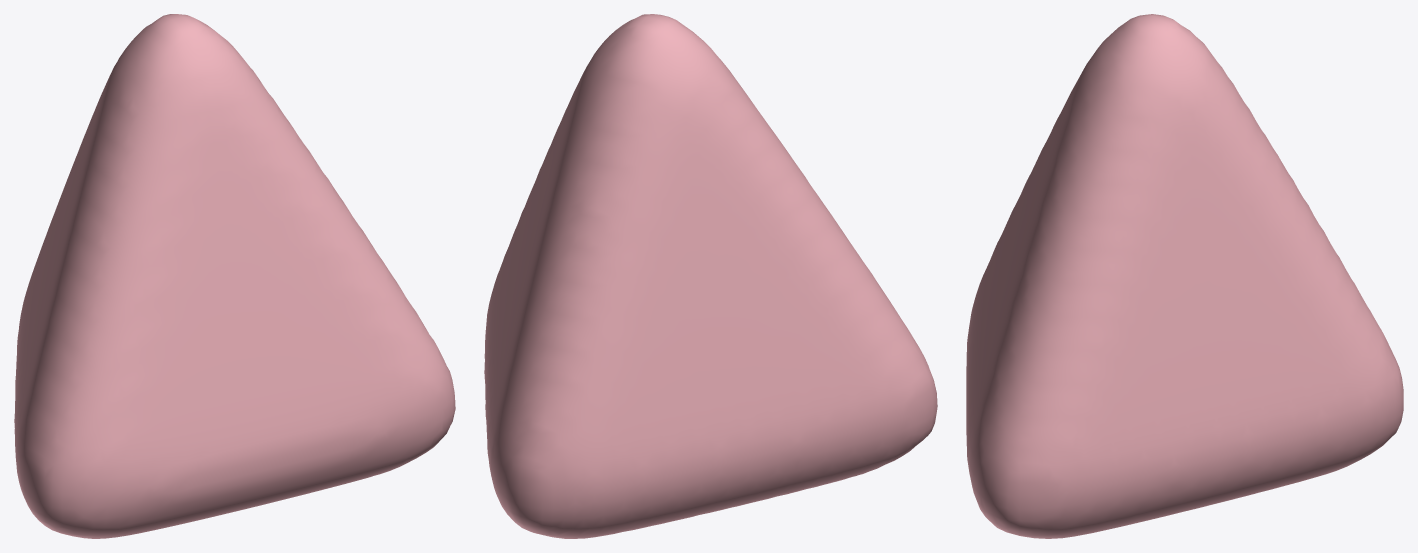
Rendered from squishy-pyramid.glb.
The picture shows the model from 3 angles, left to right: view 1: azimuth 30°, elevation 25°; view 2: azimuth 150°, elevation 25°; view 3: azimuth 270°, elevation 25°; orthographic projection. The views are drawn at different scales.
Parts seen in each view (by area): view 1: Squishy_Surface; view 2: Squishy_Surface; view 3: Squishy_Surface.
Part boxes in pixels (x1=…): Squishy_Surface: x1=14, y1=14, x2=455, y2=538; Squishy_Surface: x1=484, y1=14, x2=937, y2=538; Squishy_Surface: x1=966, y1=14, x2=1403, y2=538.
Bounding box in the file's own units: 1.78 × 1.83 × 1.61.
